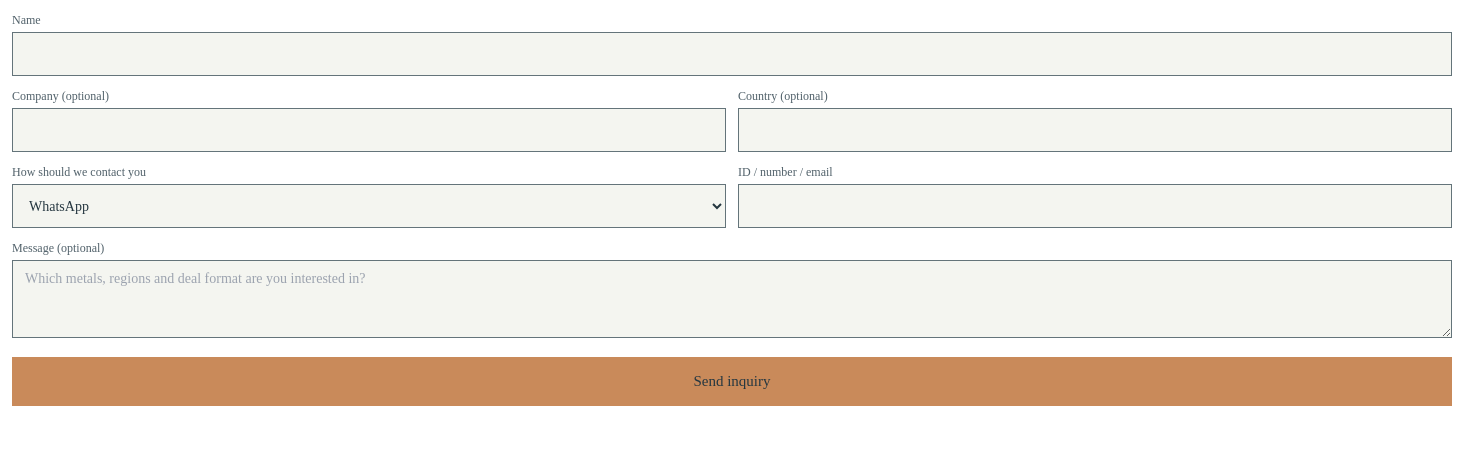
Scenario: InquiryForm › explains rate limiting
Type "Li Wei" into the field labelled "Name" at [732, 54], box x1=12 y1=32 x2=1452 y2=76
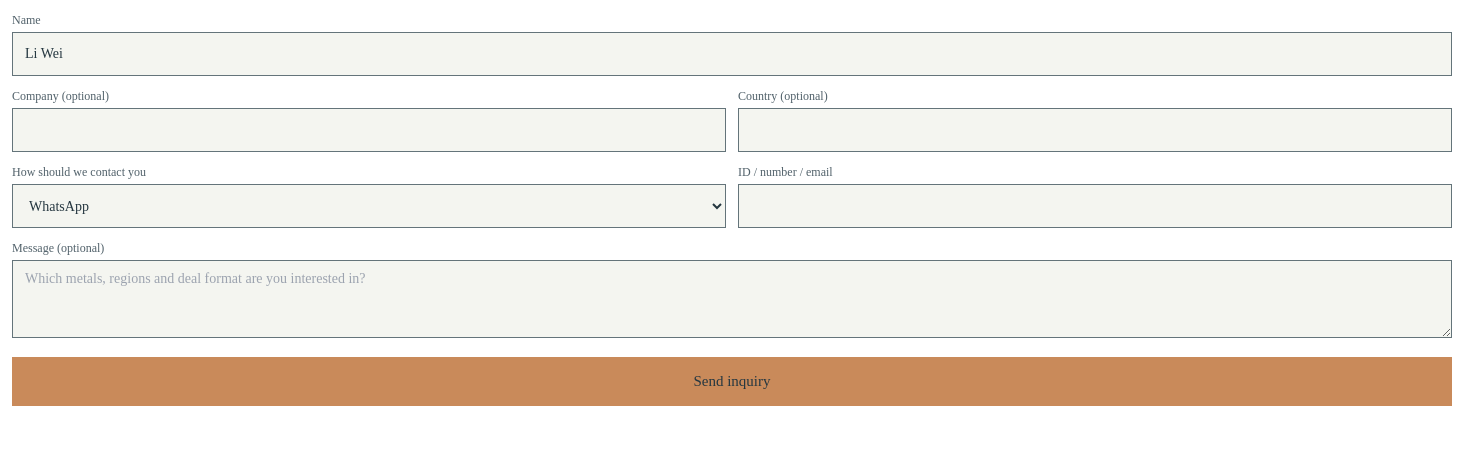
Type "liwei_88" into the field labelled "ID / number / email" at [1095, 206], box x1=738 y1=184 x2=1452 y2=228
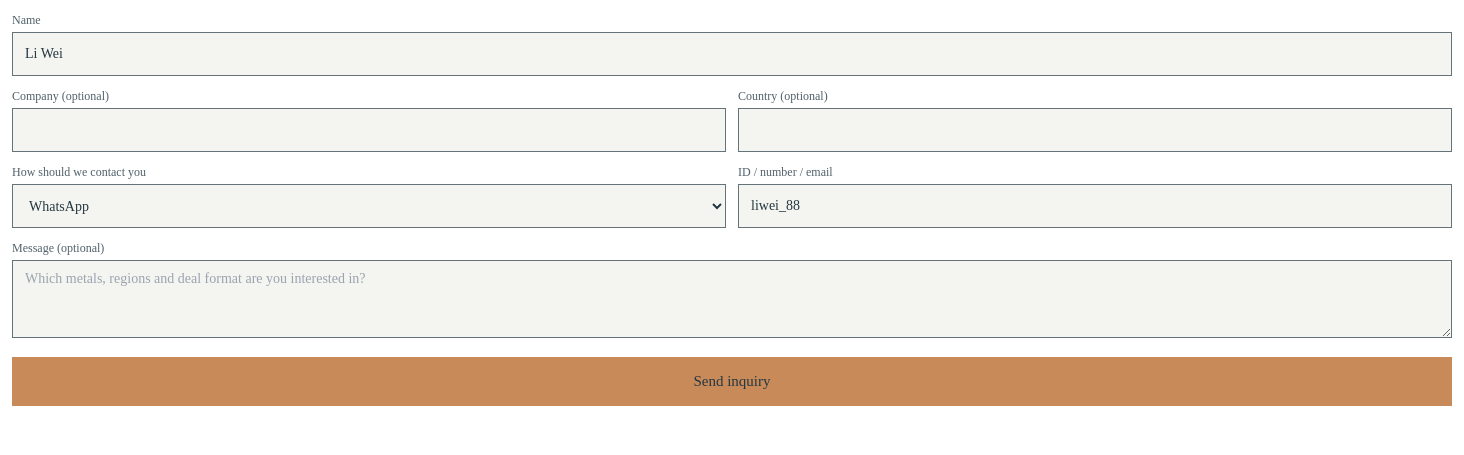
Click the button "Send inquiry" at [732, 381], box x1=12 y1=357 x2=1452 y2=406
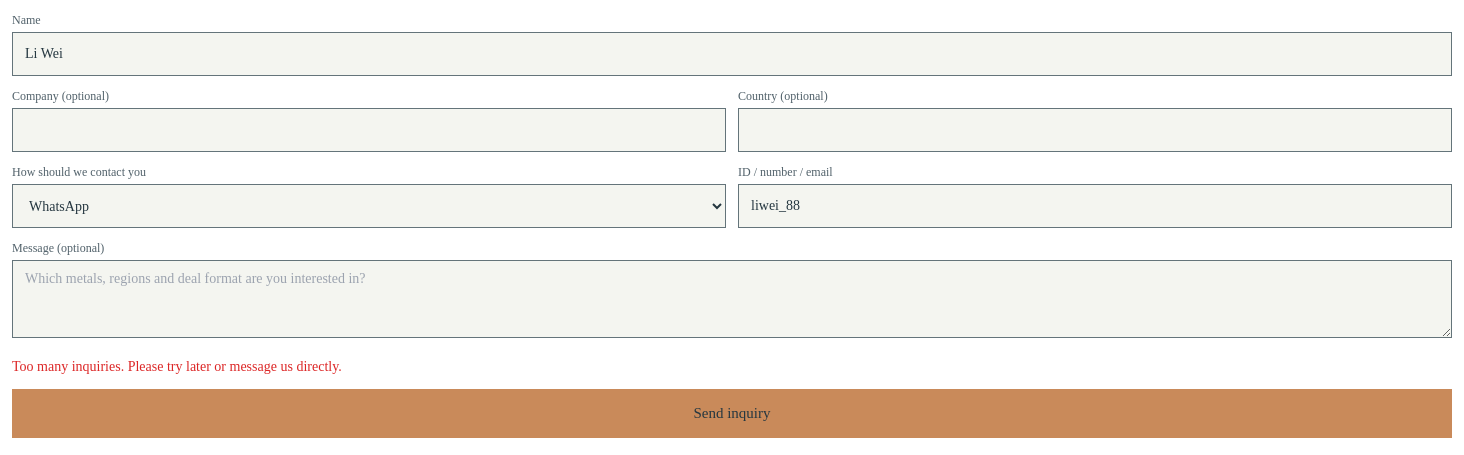
expect the message shows "Too many inquiries": met, box x1=12 y1=359 x2=342 y2=374
